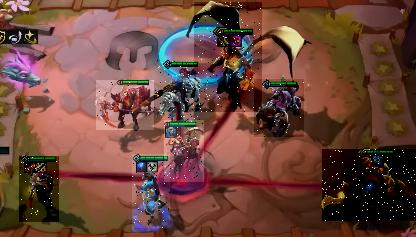1_hecarim: (96, 80, 154, 130)
1_lillia: (164, 120, 204, 182)
2_aphelios: (19, 156, 59, 222)
2_nilah: (132, 154, 170, 228)
2_rell: (153, 60, 201, 120)
2_sejuani: (254, 79, 304, 137)
3_rengar: (322, 149, 416, 221)
3_swain: (194, 2, 262, 112)
